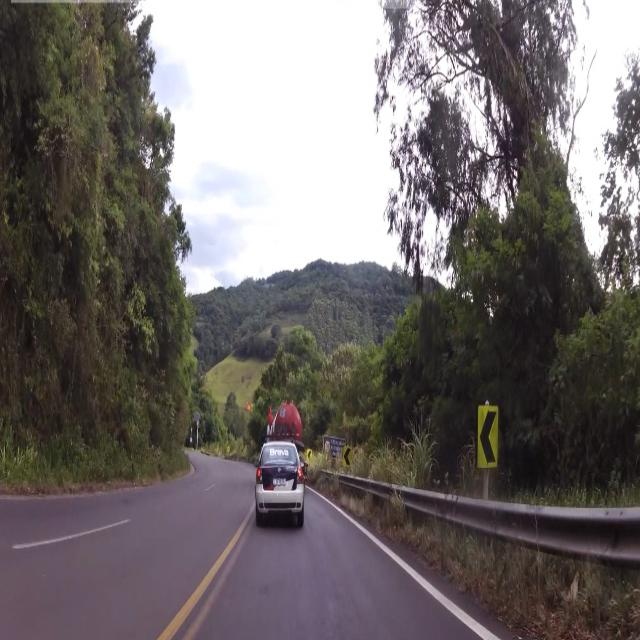Del: (476, 400, 500, 470)
